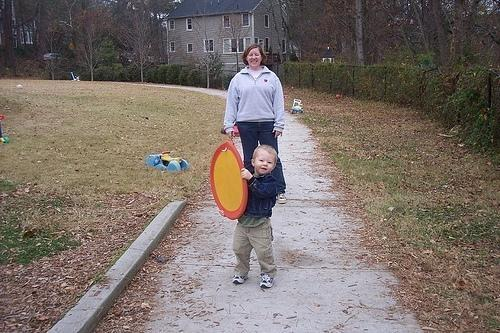car: (44, 53, 68, 60)
